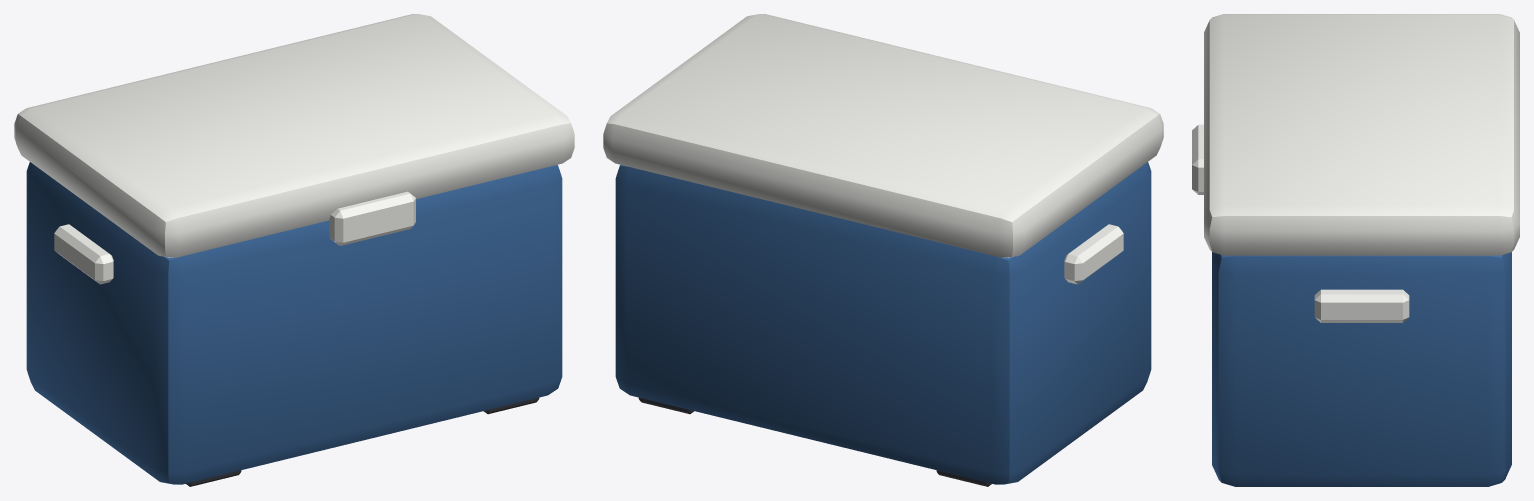
File: SM_Cooler_Box.glb
3 renders of one model, left to right at view 1: azimuth 30°, elevation 25°; view 2: azimuth 150°, elevation 25°; view 3: azimuth 270°, elevation 25°, orthographic.
Parts seen in each view (by area): view 1: SM_Cooler_Box; view 2: SM_Cooler_Box; view 3: SM_Cooler_Box.
Boxes of the visible parts, <box> form: SM_Cooler_Box: <box>14,14,574,486</box>; SM_Cooler_Box: <box>603,14,1163,486</box>; SM_Cooler_Box: <box>1192,14,1519,486</box>.
Bounding box in the file's own units: 0.65 × 0.4 × 0.415.
1 material, 1 textured.
